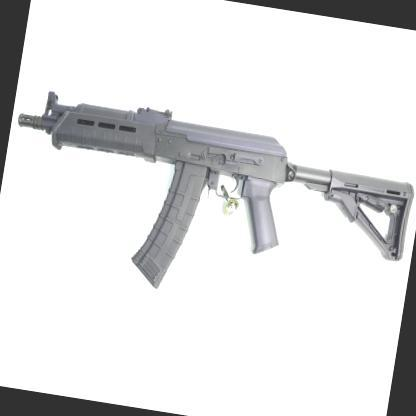rifle: (0, 72, 416, 330)
